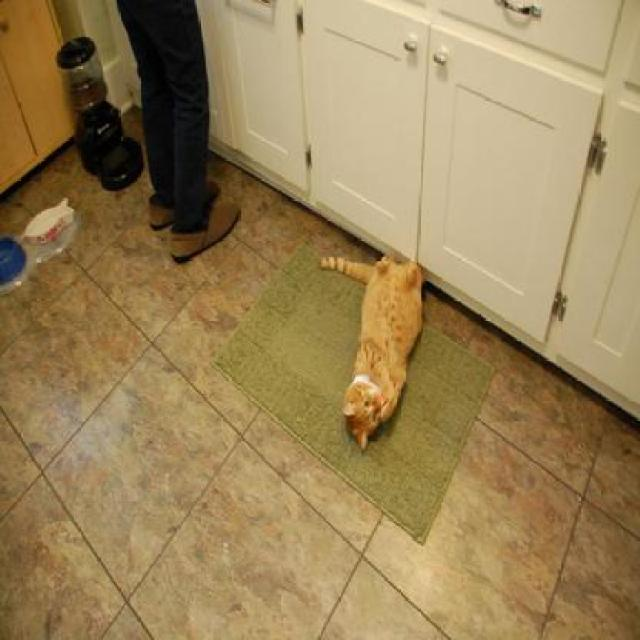Person: (119, 2, 238, 269)
